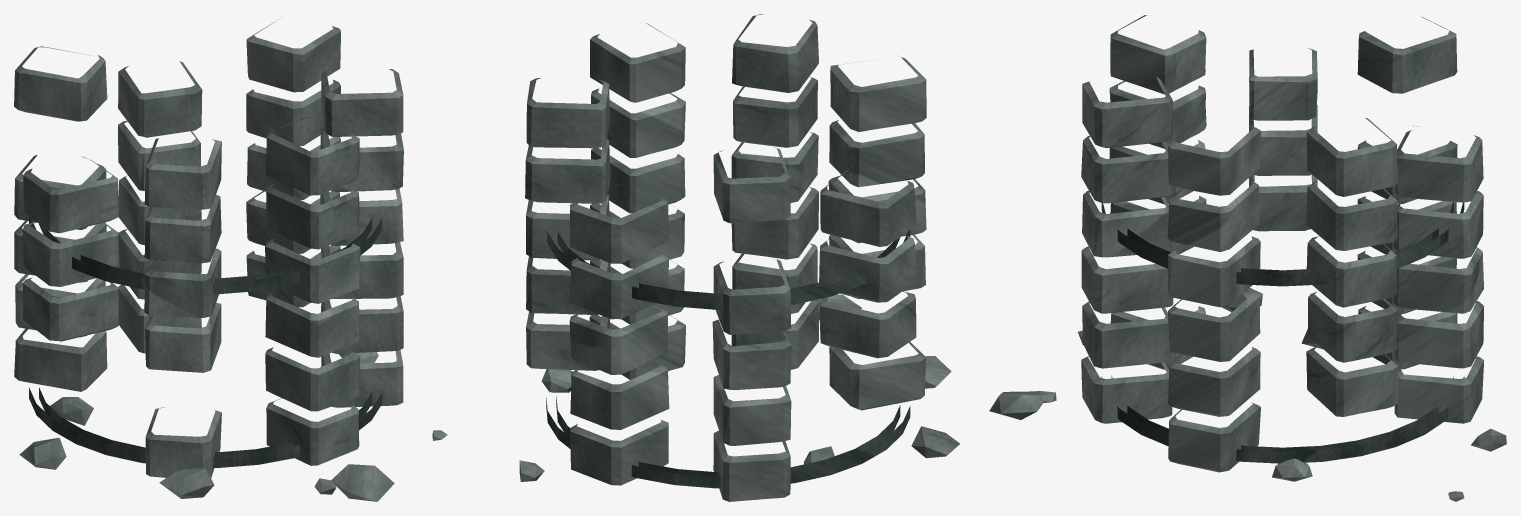
File: 0419_ruined_tower_19.glb
3 views of the same model, side by side, from view 1: azimuth 30°, elevation 25°; view 2: azimuth 150°, elevation 25°; view 3: azimuth 270°, elevation 25° (orthographic). The views are drawn at different scales.
Parts seen in each view (by area): view 1: stone, stone_dark; view 2: stone, stone_dark; view 3: stone, stone_dark.
Part boxes in pixels (left/top/right/bottom): stone: left=14, top=19, right=403, bottom=501; stone_dark: left=29, top=216, right=382, bottom=467; stone: left=432, top=14, right=959, bottom=501; stone_dark: left=546, top=230, right=910, bottom=488; stone: left=989, top=15, right=1506, bottom=501; stone_dark: left=1101, top=202, right=1464, bottom=463.
Bounding box in the file's own units: 3.3 × 2.51 × 3.57.
Materials: 2 (2 with a texture image).
